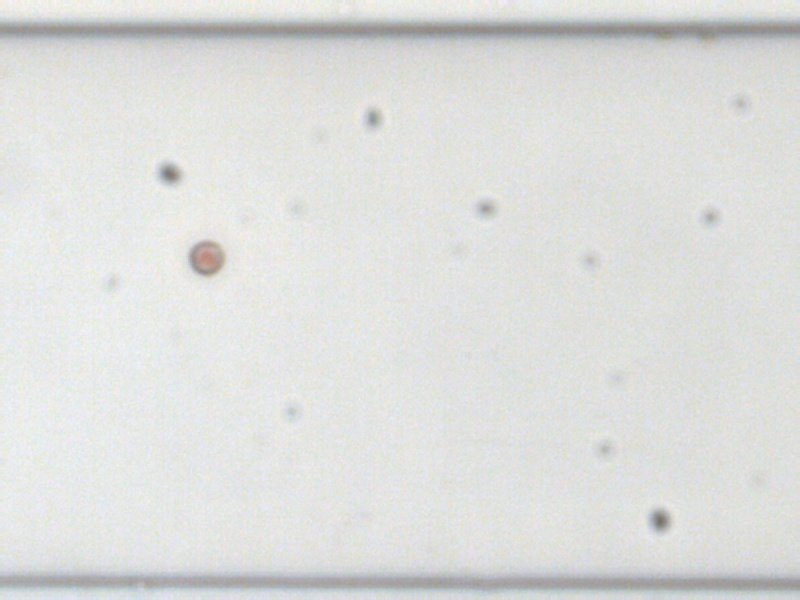Porphyridium: (184, 239, 226, 278)
